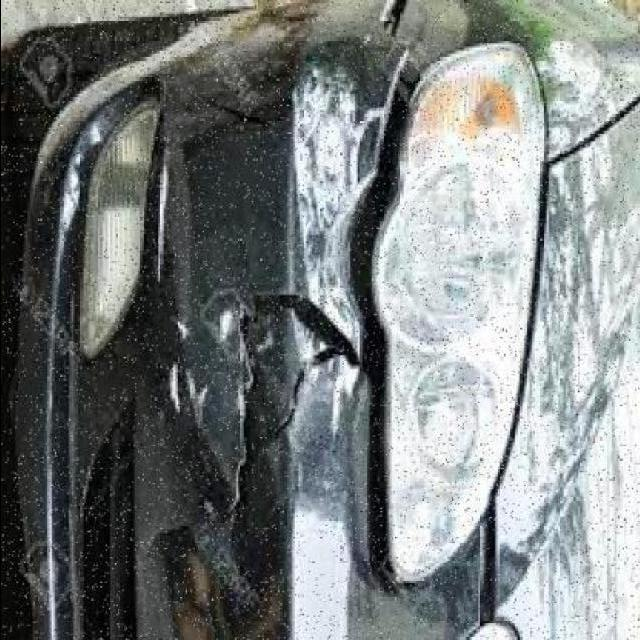front-bumper-dent: (50, 6, 407, 636)
